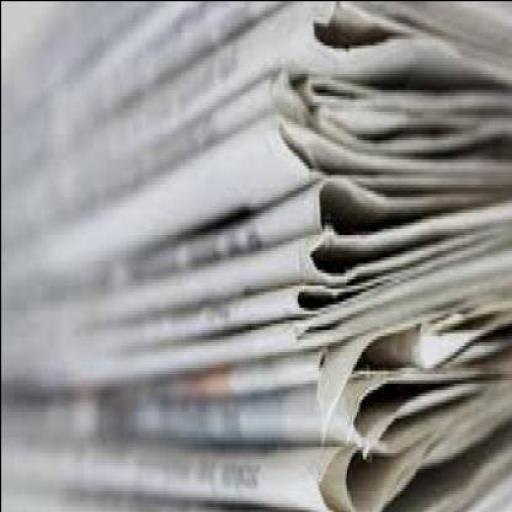paper: (1, 1, 512, 511), (1, 256, 510, 379), (1, 3, 511, 118), (1, 335, 510, 443), (1, 180, 510, 288), (1, 82, 511, 186), (0, 430, 511, 510)
